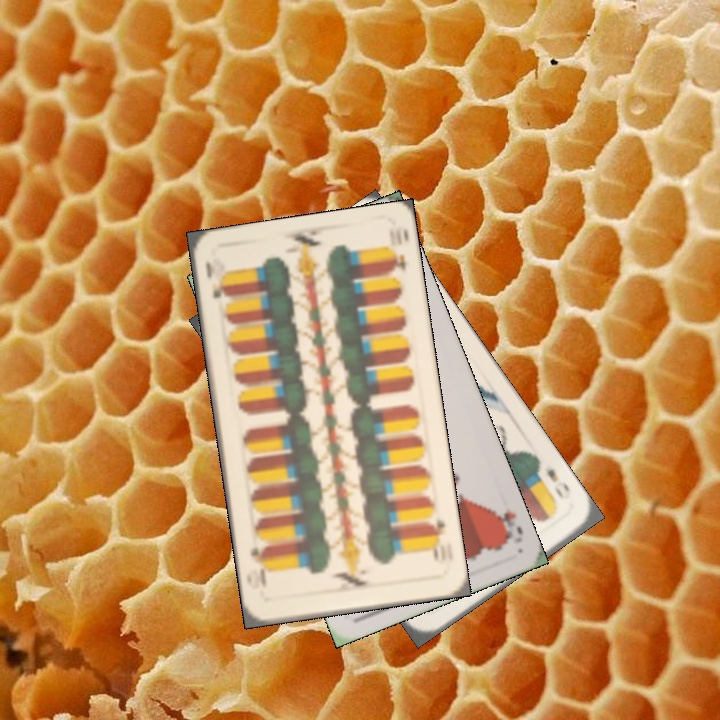E10: (201, 257, 230, 301), (424, 514, 447, 565)
EO: (541, 464, 573, 502)
HO: (490, 506, 526, 546)
